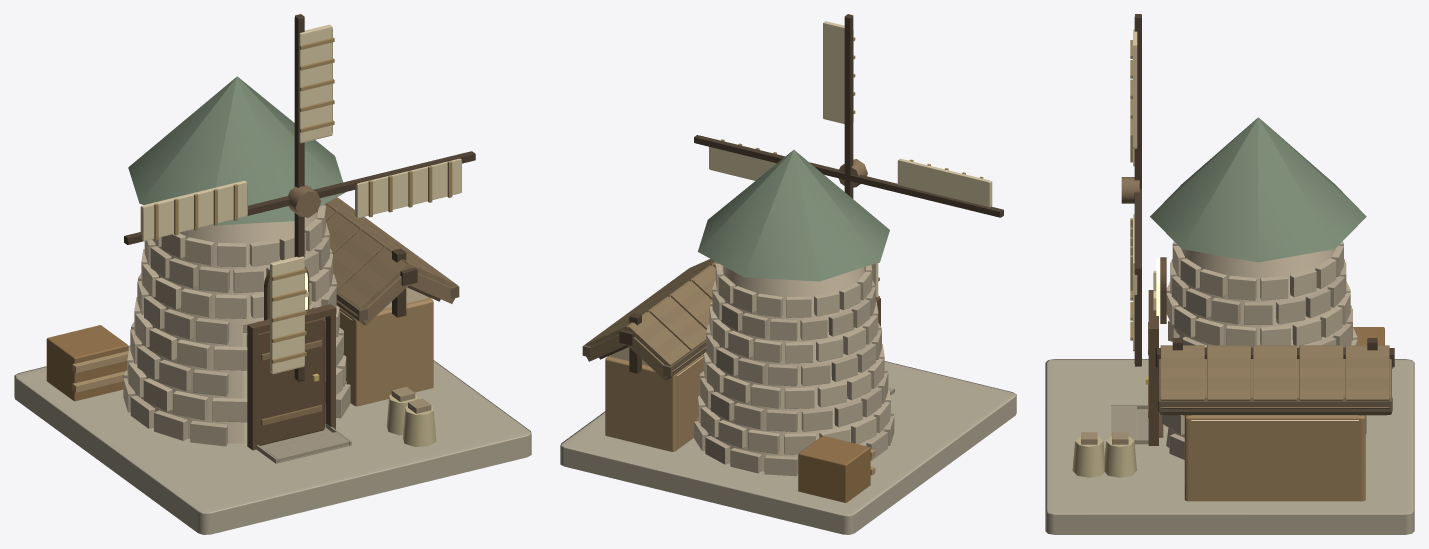
Rendered from mill-1.glb.
The picture shows the model from 3 angles, left to right: view 1: azimuth 30°, elevation 25°; view 2: azimuth 150°, elevation 25°; view 3: azimuth 270°, elevation 25°; orthographic projection. The views are drawn at different scales.
Visible parts, largest first — view 1: mill-1-0, mill-fan, door-hinge; view 2: mill-1-0, mill-fan; view 3: mill-1-0, mill-fan.
Boxes of the visible parts, x1,y1,x2,y2 form: mill-1-0: (14, 76, 531, 534); mill-fan: (124, 14, 475, 382); door-hinge: (258, 318, 324, 445); mill-1-0: (560, 150, 1016, 534); mill-fan: (694, 14, 1003, 297); mill-1-0: (1045, 117, 1414, 534); mill-fan: (1121, 14, 1141, 366).
Size of the model in its own units: 3.1 by 3.7 by 2.86.
